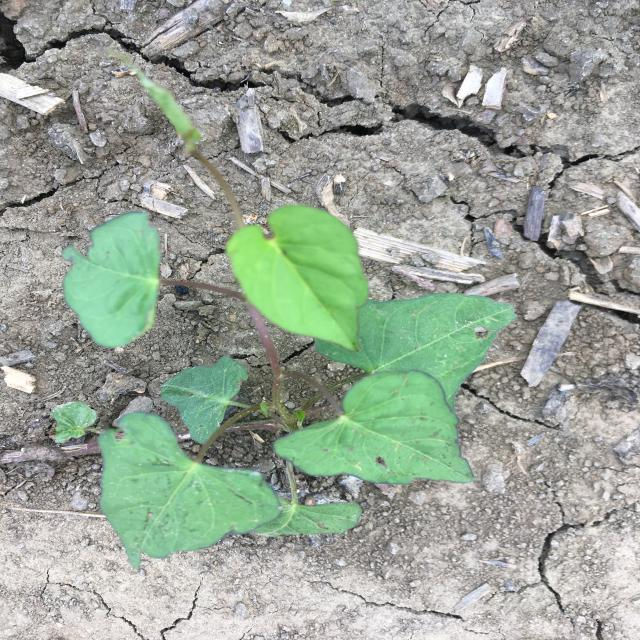MorningGlory: (51, 49, 517, 572)
